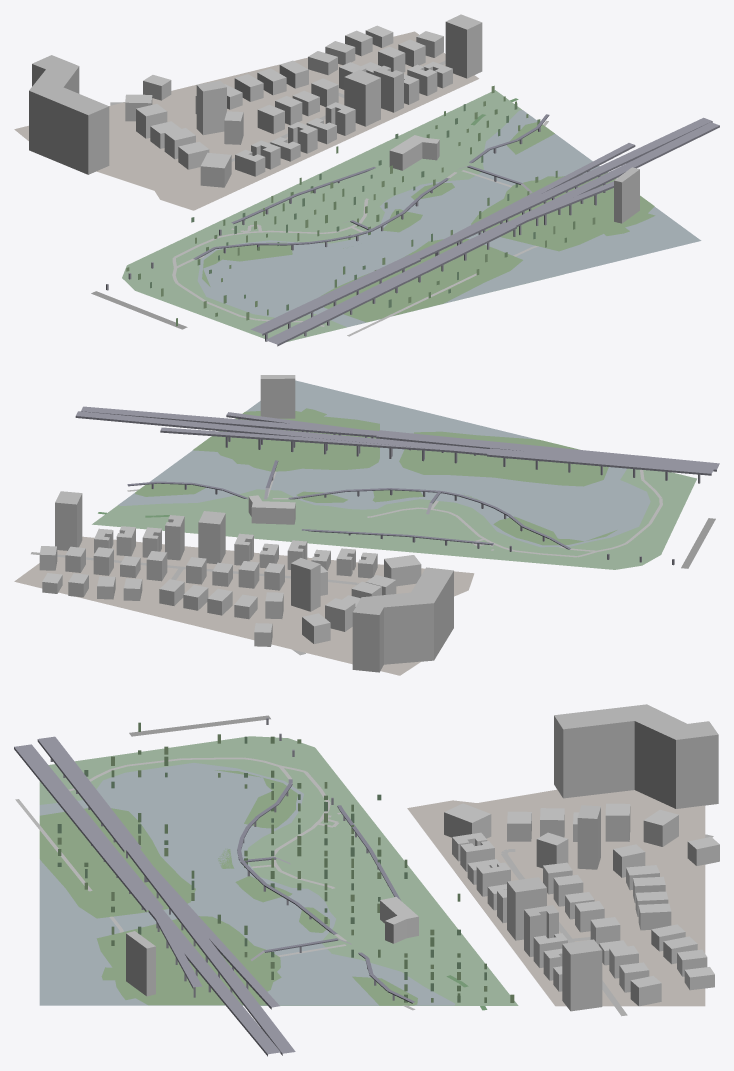
The picture shows the model from 3 angles, top to bottom: view 1: azimuth 30°, elevation 25°; view 2: azimuth 150°, elevation 25°; view 3: azimuth 270°, elevation 25°; orthographic projection. The views are drawn at different scales.
Bounding box in the file's own units: 633 × 57.87 × 530.
